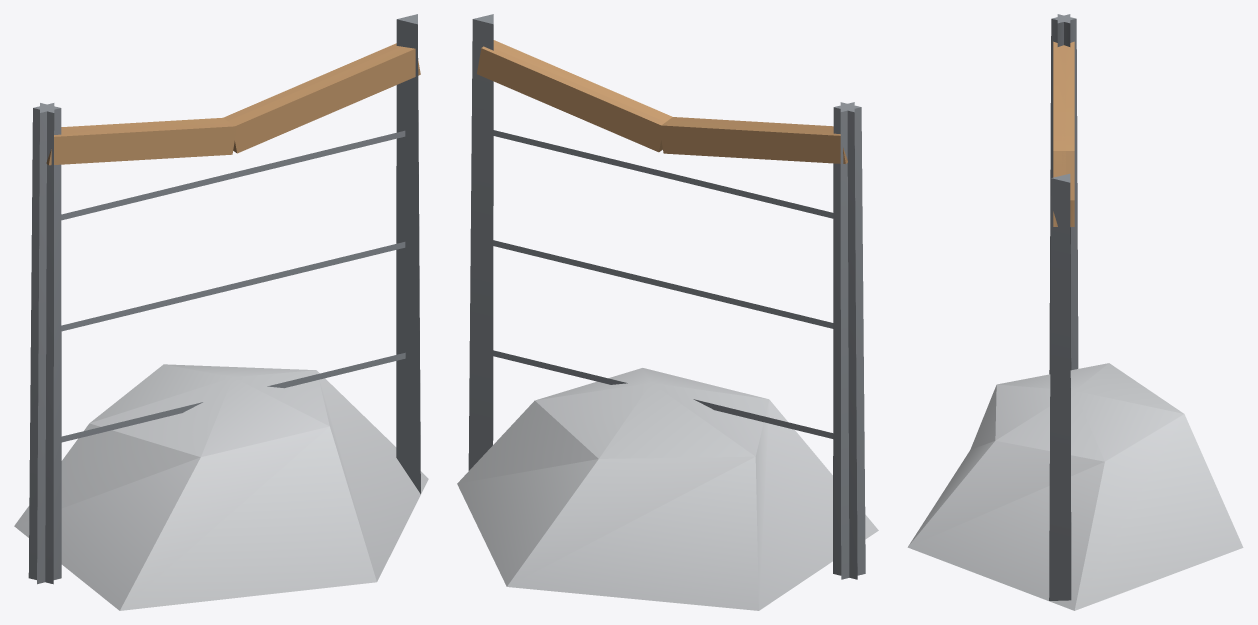
The model's file is net.lod2.glb.
The picture shows the model from 3 angles, left to right: view 1: azimuth 30°, elevation 25°; view 2: azimuth 150°, elevation 25°; view 3: azimuth 270°, elevation 25°; orthographic projection. The views are drawn at different scales.
Size of the model in its own units: 1.97 by 2.2 by 1.59.
